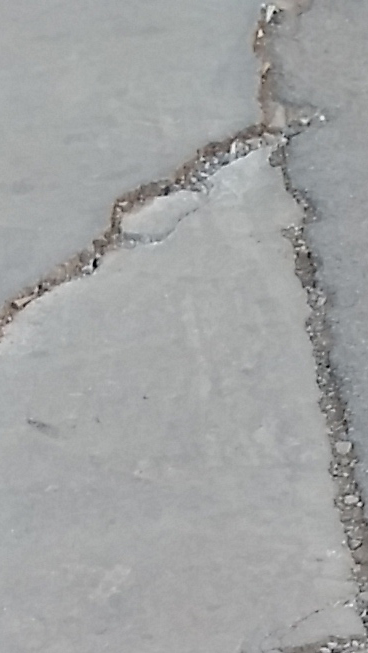A: (1, 32, 367, 630)
